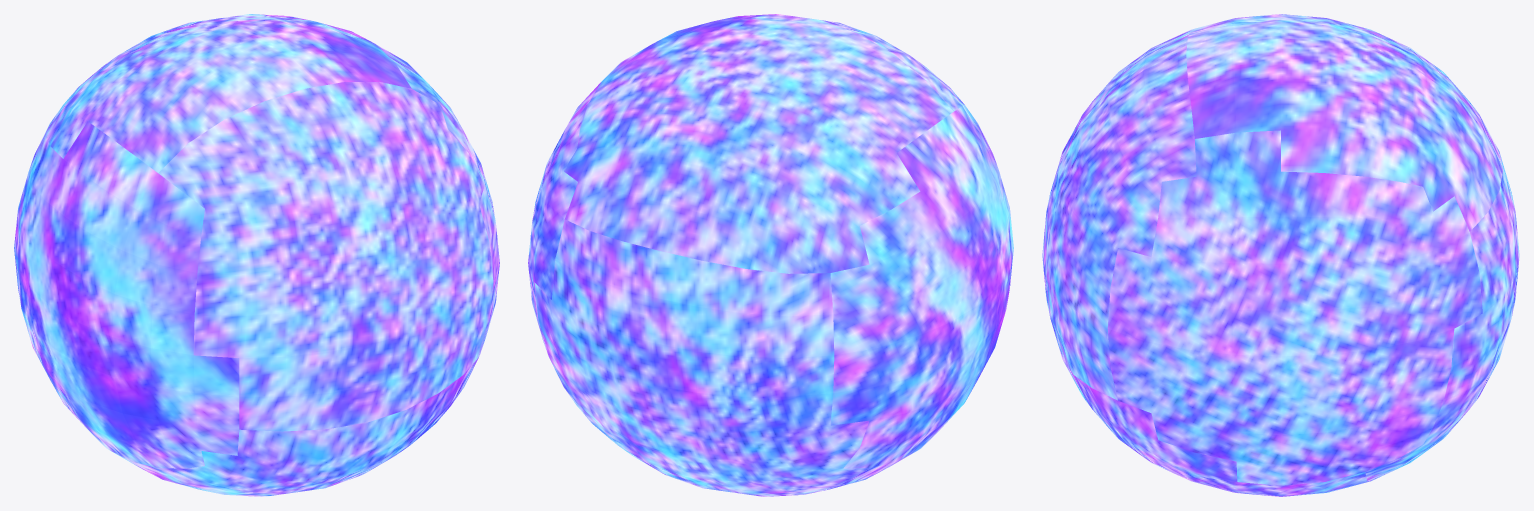
The model's file is Blob.glb.
The picture shows the model from 3 angles, left to right: view 1: azimuth 30°, elevation 25°; view 2: azimuth 150°, elevation 25°; view 3: azimuth 270°, elevation 25°; orthographic projection.
Visible parts, largest first — view 1: TimeBlob.mdd; view 2: TimeBlob.mdd; view 3: TimeBlob.mdd.
Part boxes in pixels (box(x1,y1,x2,y2)): TimeBlob.mdd: box(14, 14, 499, 496); TimeBlob.mdd: box(528, 14, 1013, 496); TimeBlob.mdd: box(1042, 14, 1519, 496).
Size of the model in its own units: 1.68 by 1.68 by 1.68.
